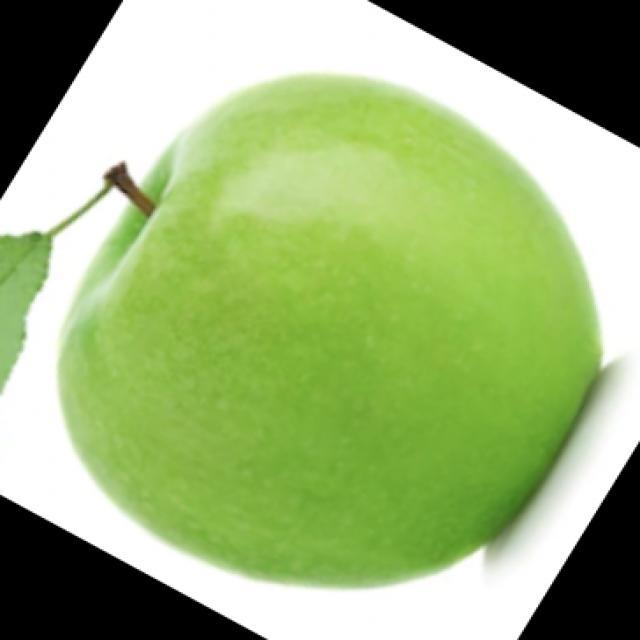Fresh Apple: (83, 70, 582, 585)
